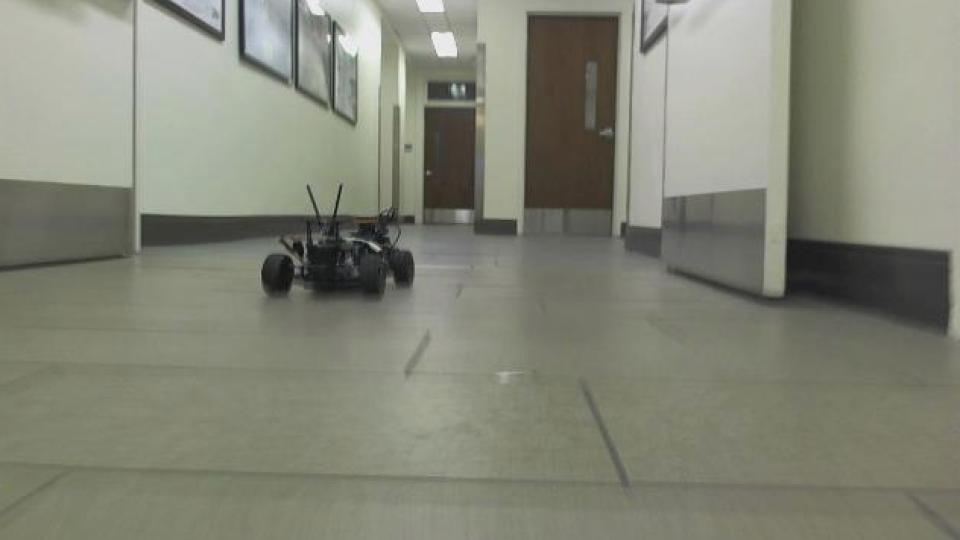car: (258, 180, 419, 302)
